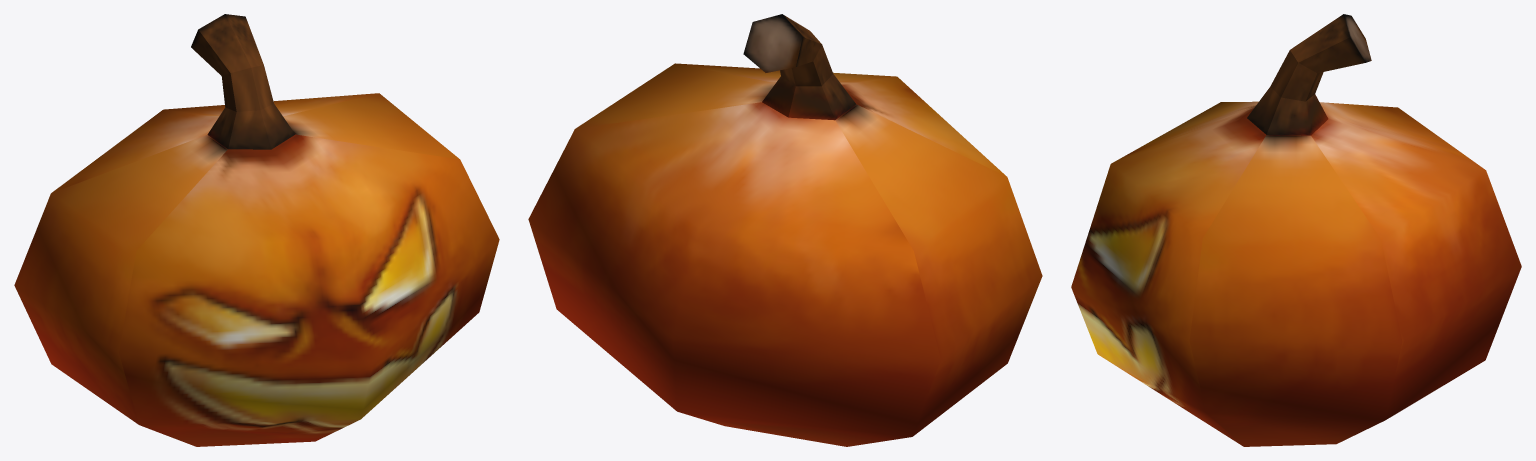
File: Bullet_pumpkin.FBX
The picture shows the model from 3 angles, left to right: view 1: azimuth 30°, elevation 25°; view 2: azimuth 150°, elevation 25°; view 3: azimuth 270°, elevation 25°; orthographic projection. The views are drawn at different scales.
Visible parts, largest first — view 1: Bullet_pumpkin; view 2: Bullet_pumpkin; view 3: Bullet_pumpkin.
Part boxes in pixels (x1,y1,x2,y2): Bullet_pumpkin: (14,14,499,446); Bullet_pumpkin: (528,14,1042,446); Bullet_pumpkin: (1071,14,1521,446).
Bounding box in the file's own units: 48.85 × 46.89 × 48.24.
